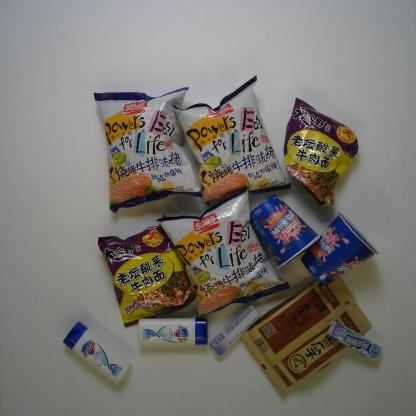Candy: (209, 301, 262, 359), (326, 317, 386, 366)
Dessert: (299, 213, 379, 289), (245, 193, 320, 271)
Dried Food: (239, 274, 374, 400)
Instant Noodles: (92, 226, 202, 329), (279, 96, 364, 210)
Personal Hygiene: (58, 319, 131, 385), (136, 311, 209, 350)
Puffed Food: (155, 190, 292, 318), (168, 74, 293, 207), (91, 84, 207, 213)
